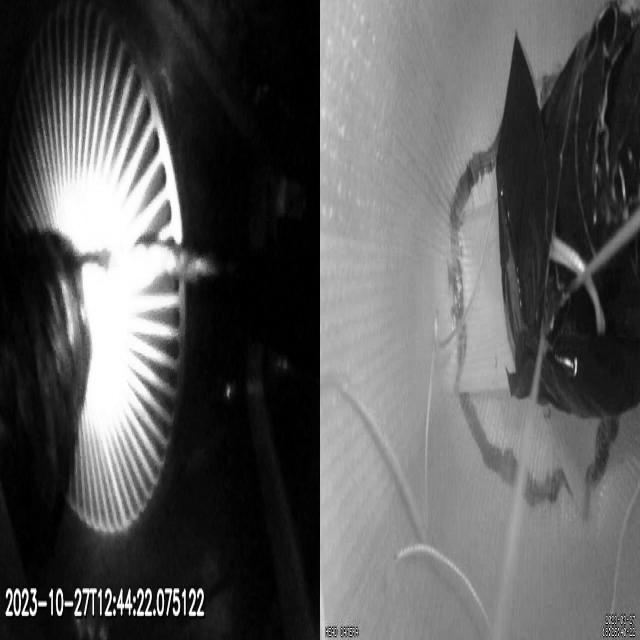red-circle: (449, 74, 622, 505)
